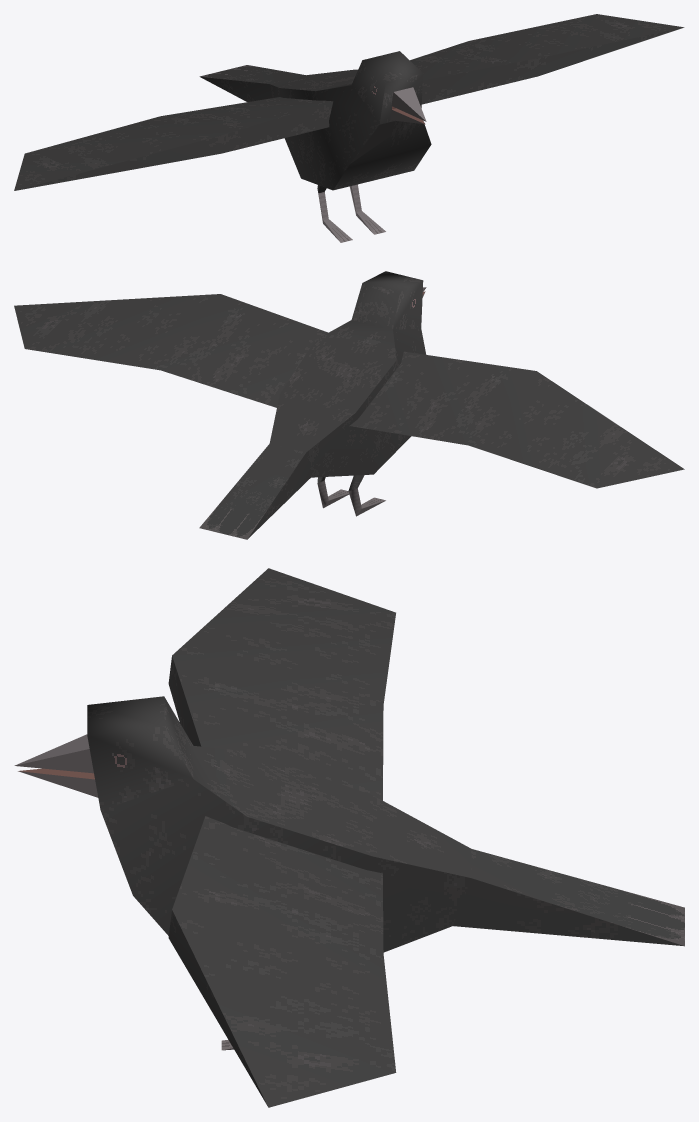
File: 01f1_Crow.glb
3 renders of one model, top to bottom at view 1: azimuth 30°, elevation 25°; view 2: azimuth 150°, elevation 25°; view 3: azimuth 270°, elevation 25°, orthographic. The views are drawn at different scales.
Visible parts, largest first — view 1: part_0; view 2: part_0; view 3: part_0.
Boxes of the visible parts, box(x1,y1,x2,y2) form: part_0: box(14, 14, 684, 242); part_0: box(14, 271, 684, 539); part_0: box(14, 568, 684, 1107).
Bounding box in the file's own units: 1.11 × 0.3081 × 0.5841.
Materials: 1 (1 with a texture image).
